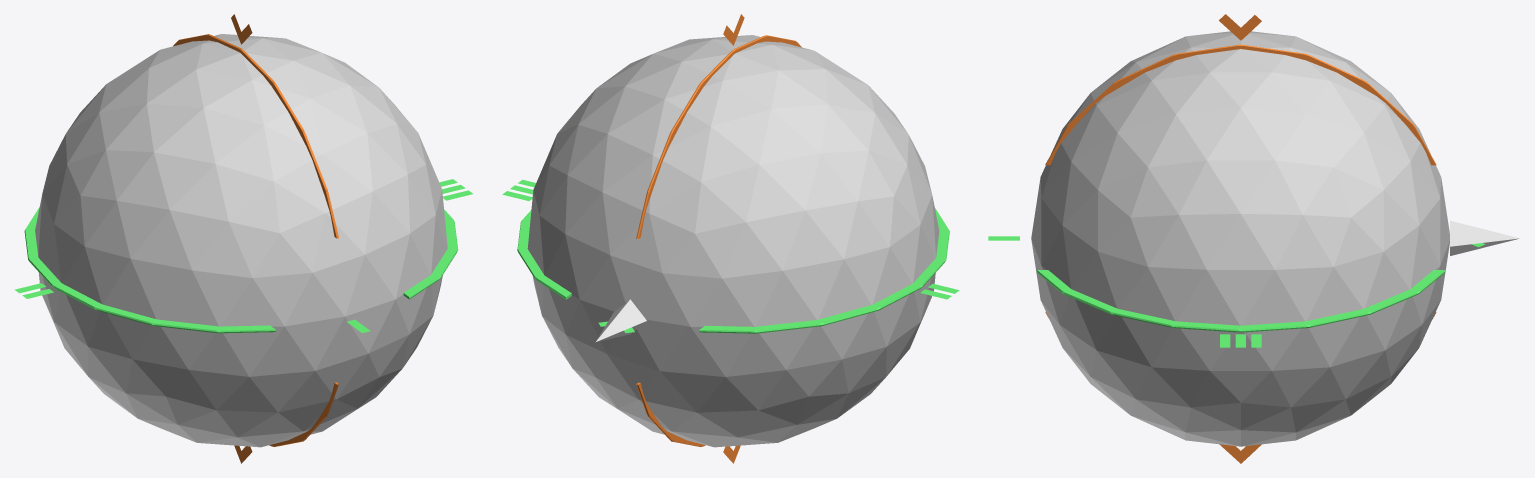
The model's file is GyroSphere.glb.
The picture shows the model from 3 angles, left to right: view 1: azimuth 30°, elevation 25°; view 2: azimuth 150°, elevation 25°; view 3: azimuth 270°, elevation 25°; orthographic projection.
Visible parts, largest first — view 1: GyroSphere, Axis; view 2: GyroSphere, Axis, Pointer; view 3: GyroSphere, Axis, Pointer.
Boxes of the visible parts, x1,y1,x2,y2 form: GyroSphere: (35, 34, 447, 447); Axis: (15, 14, 472, 463); GyroSphere: (527, 35, 939, 447); Axis: (502, 14, 959, 463); Pointer: (596, 299, 646, 341); GyroSphere: (1031, 31, 1449, 446); Axis: (988, 14, 1485, 463); Pointer: (1450, 220, 1519, 255).
Size of the model in its own units: 2.46 by 2.37 by 2.54.
